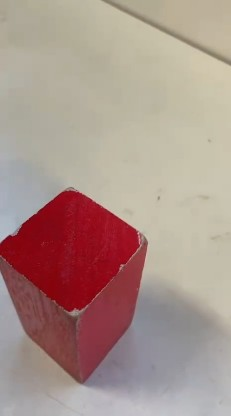red: (8, 173, 160, 390)
